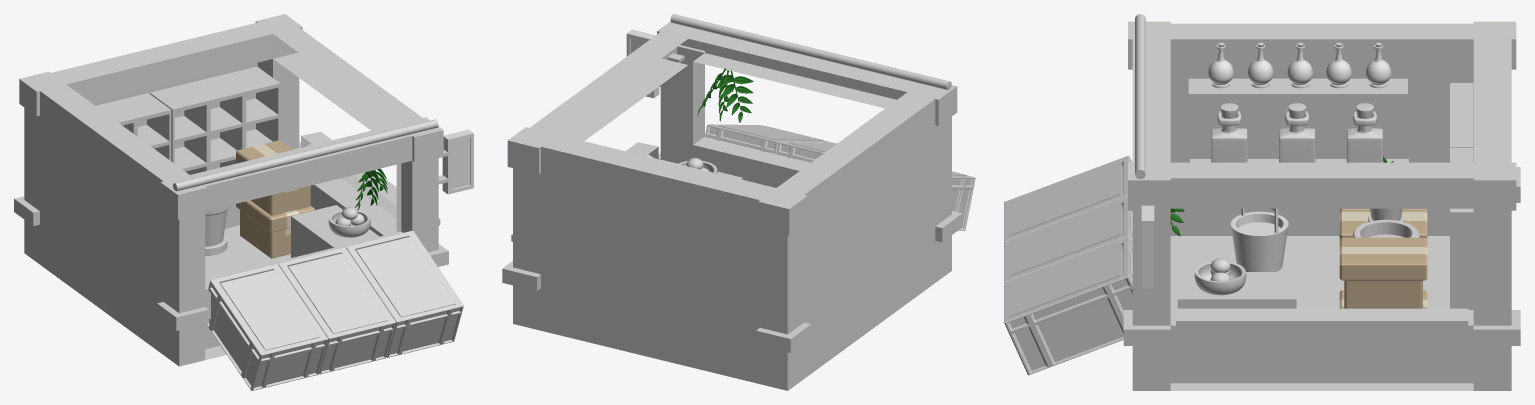
Rendered from PersonaStore_All.fbx.
3 renders of one model, left to right at view 1: azimuth 30°, elevation 25°; view 2: azimuth 150°, elevation 25°; view 3: azimuth 270°, elevation 25°, orthographic. The views are drawn at different scales.
Visible parts, largest first — view 1: Store_Frame, Cube.018, Box, Box_Water.001, Box_Water.002, Box_Water, Box.002, Box.001, Cube.019, Cylinder.007, Cube.024, Cube.021 (+5 smaller); view 2: Store_Frame, Cylinder.007, Box.002, Box, Box_Water.002, BasicPlant.002, Box.001, Cube.013; view 3: Store_Frame, Box.002, Store_Frame.001, Cube.025, Box_Water, Box_Water.002, Box_Water.001, Cube.022, Cube.021, Cylinder.008, Cube.018, Cylinder.007 (+16 smaller).
Boxes of the visible parts, x1,y1,x2,y2 form: Store_Frame: (14,14,448,366); Cube.018: (149,66,280,228); Box: (206,263,328,390); Box_Water.001: (288,253,387,333); Box_Water.002: (356,236,455,317); Box_Water: (220,270,319,350); Box.002: (346,230,463,357); Box.001: (278,247,395,374); Cube.019: (96,93,171,160); Cylinder.007: (173,119,438,191); Cube.024: (236,200,314,258); Cube.021: (291,205,379,257); Store_Frame: (502,21,962,390); Cylinder.007: (670,14,951,90); Box.002: (705,124,831,154); Box: (952,175,975,230); Box_Water.002: (717,125,823,140); BasicPlant.002: (717,69,753,122); Box.001: (777,142,834,162); Cube.013: (626,29,659,98); Store_Frame: (1123,21,1520,390); Box.002: (1004,236,1132,375); Store_Frame.001: (1176,308,1468,328); Cube.025: (1339,237,1427,308); Box_Water: (1009,161,1123,235); Box_Water.002: (1009,242,1123,316); Box_Water.001: (1009,202,1123,276); Cube.022: (1188,78,1407,98); Cube.021: (1177,272,1296,308); Cylinder.008: (1231,208,1288,271); Cube.018: (1450,148,1473,309); Cylinder.007: (1135,14,1145,178).
Bounding box in the file's own units: 23.62 × 28.34 × 13.7.
